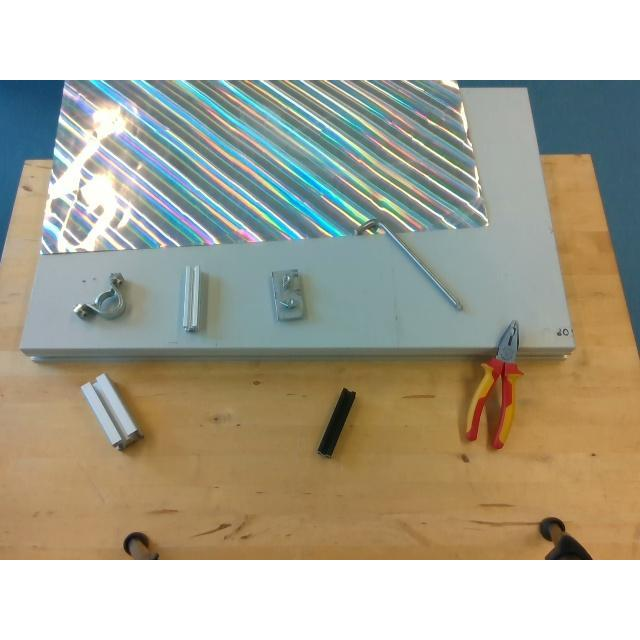AllenKey: (356, 217, 464, 311)
F20_20_B: (317, 388, 355, 454)
F20_20_G: (180, 265, 200, 331)
Housing: (72, 273, 128, 319)
S40_40_G: (81, 372, 143, 448)
